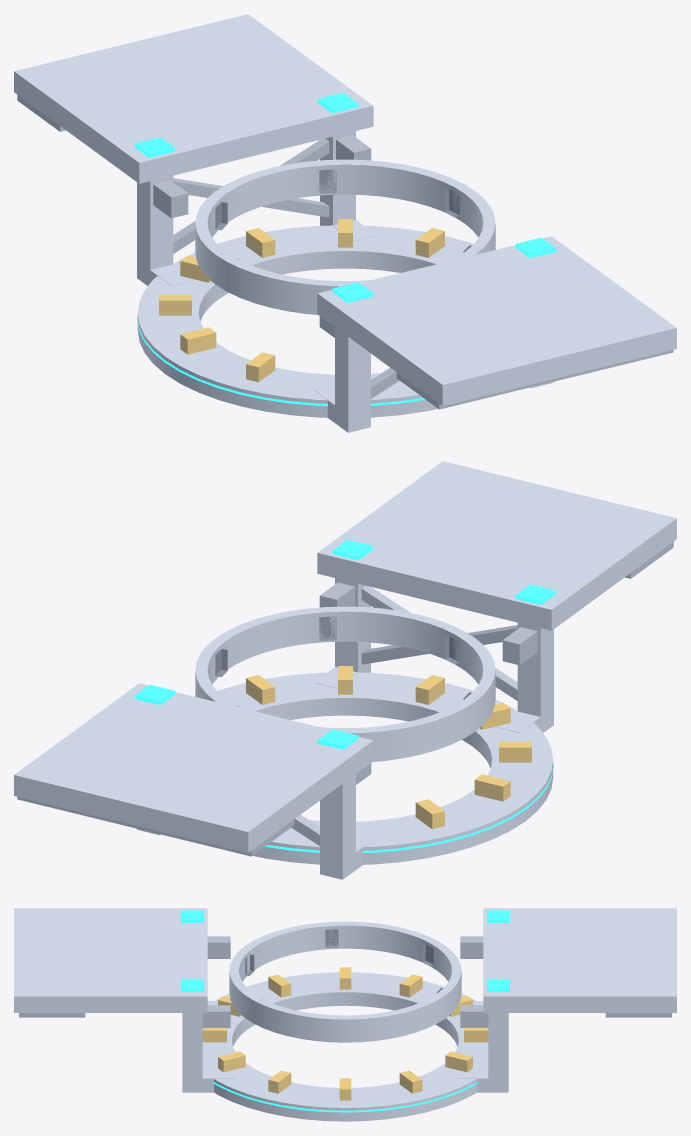
The model's file is booster_cradle_st10b_538047ce.glb.
3 views of the same model, one above another, from view 1: azimuth 30°, elevation 25°; view 2: azimuth 150°, elevation 25°; view 3: azimuth 270°, elevation 25° (orthographic). The views are drawn at different scales.
Visible parts, largest first — view 1: Cradle, Contact_Pads; view 2: Cradle, Contact_Pads; view 3: Cradle, Contact_Pads.
Part boxes in pixels (x1=…): Cradle: x1=14, y1=14, x2=676, y2=432; Contact_Pads: x1=215, y1=169, x2=471, y2=259; Cradle: x1=14, y1=461, x2=676, y2=879; Contact_Pads: x1=215, y1=616, x2=471, y2=706; Cradle: x1=14, y1=908, x2=676, y2=1121; Contact_Pads: x1=245, y1=929, x2=442, y2=999.
Size of the model in its own units: 12.64 by 4.5 by 26.
